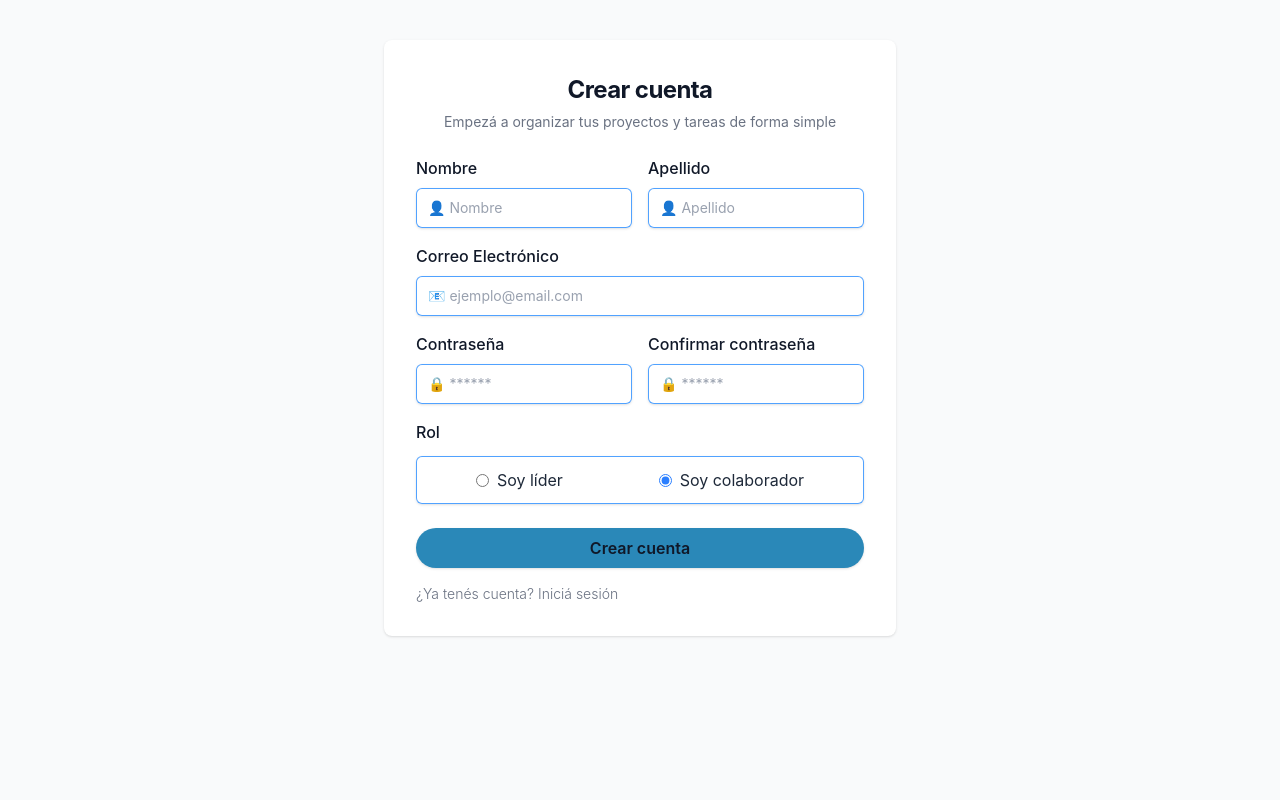
Test case: Register › muestra error cuando la contraseña no cumple el formato mínimo
The width and height of the screenshot is (1280, 800).
In the field with placeholder "👤 Nombre": (524, 208) 416,188 -> 632,228, type "Juan"
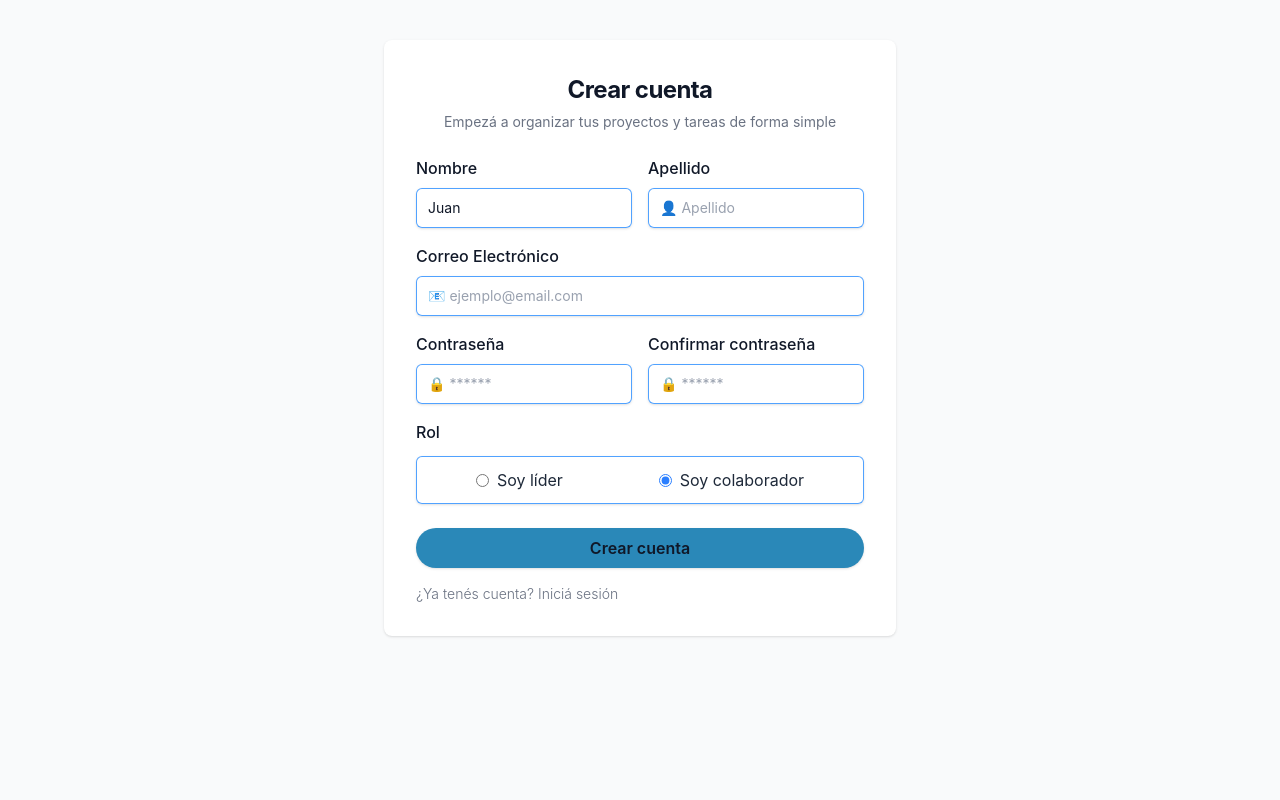
In the field with placeholder "👤 Apellido": (756, 208) 648,188 -> 864,228, type "Perez"
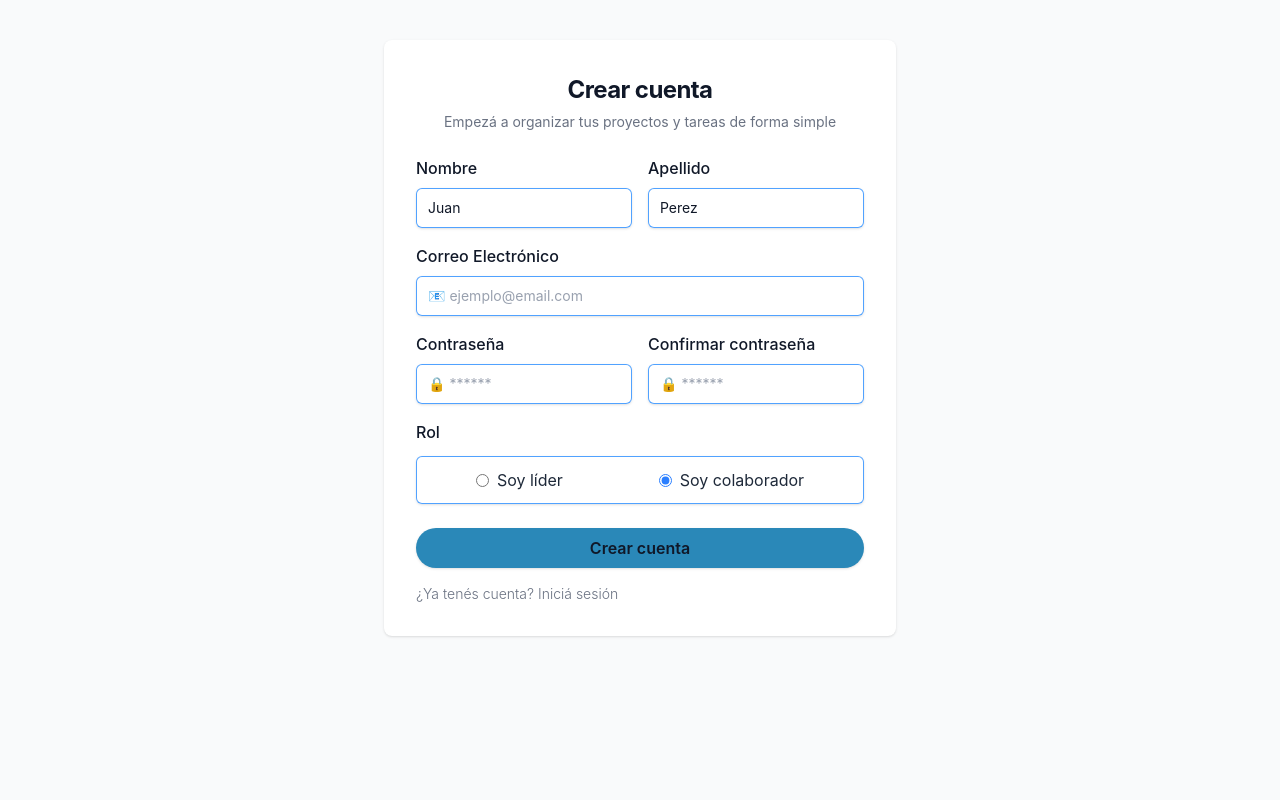
In the field with placeholder "📧 ejemplo@email.com": (640, 296) 416,276 -> 864,316, type "juan@test.com"
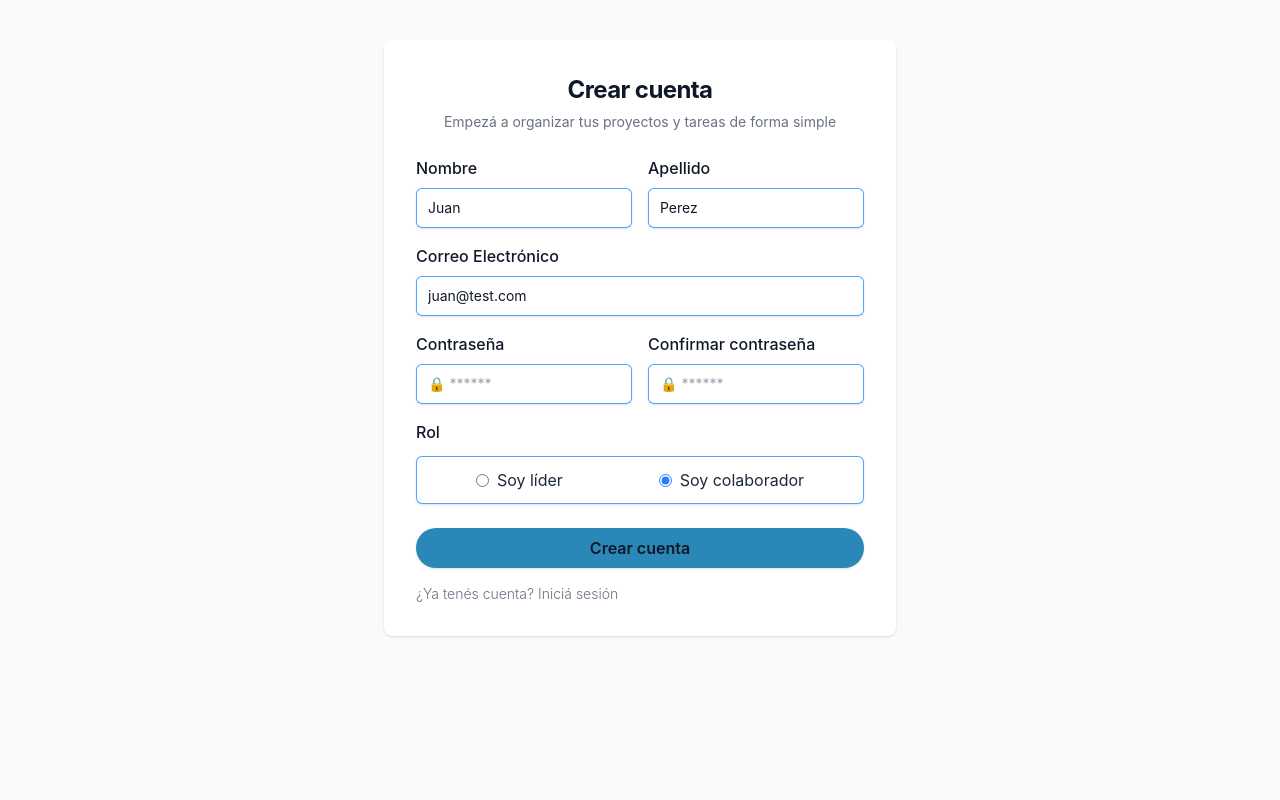
In the 1st password field with placeholder "🔒 ******": (524, 384) 416,364 -> 632,404, type "123456"
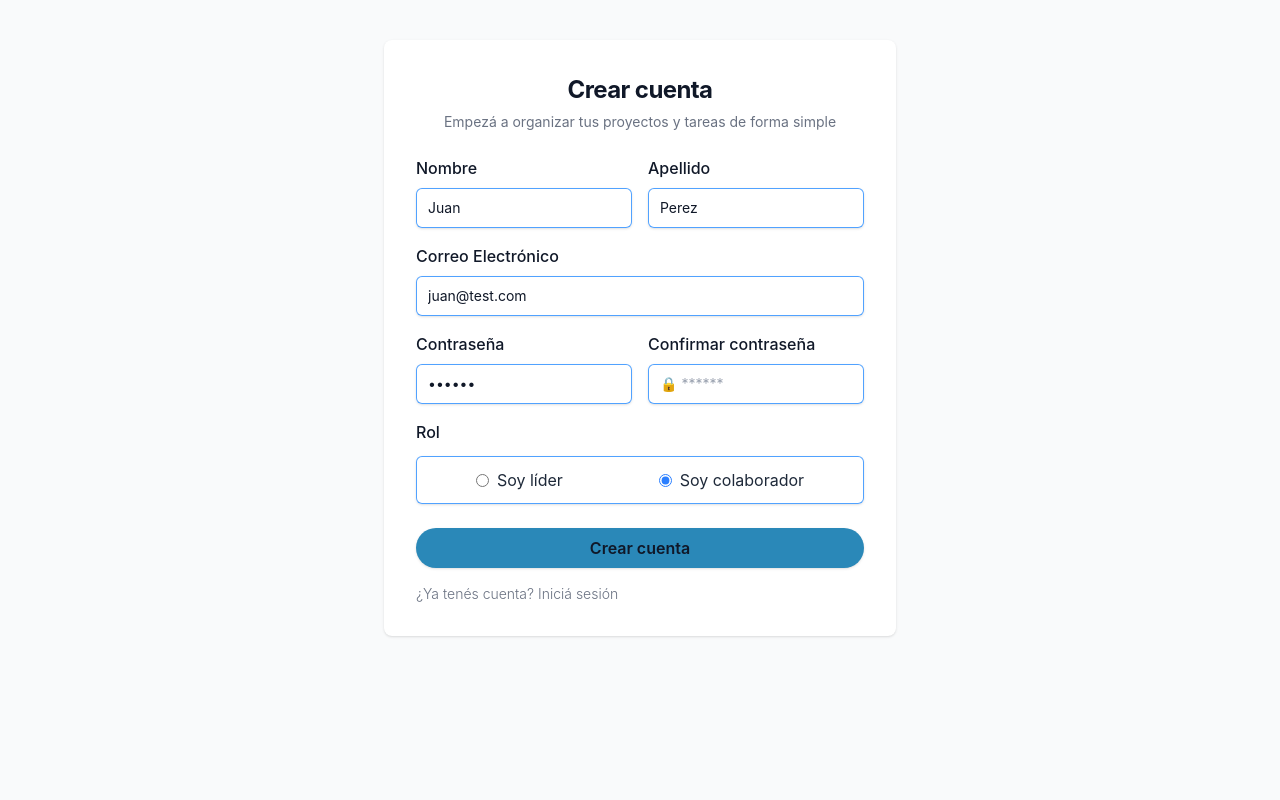
In the password field with placeholder "🔒 ******": (756, 384) 648,364 -> 864,404, type "123456"
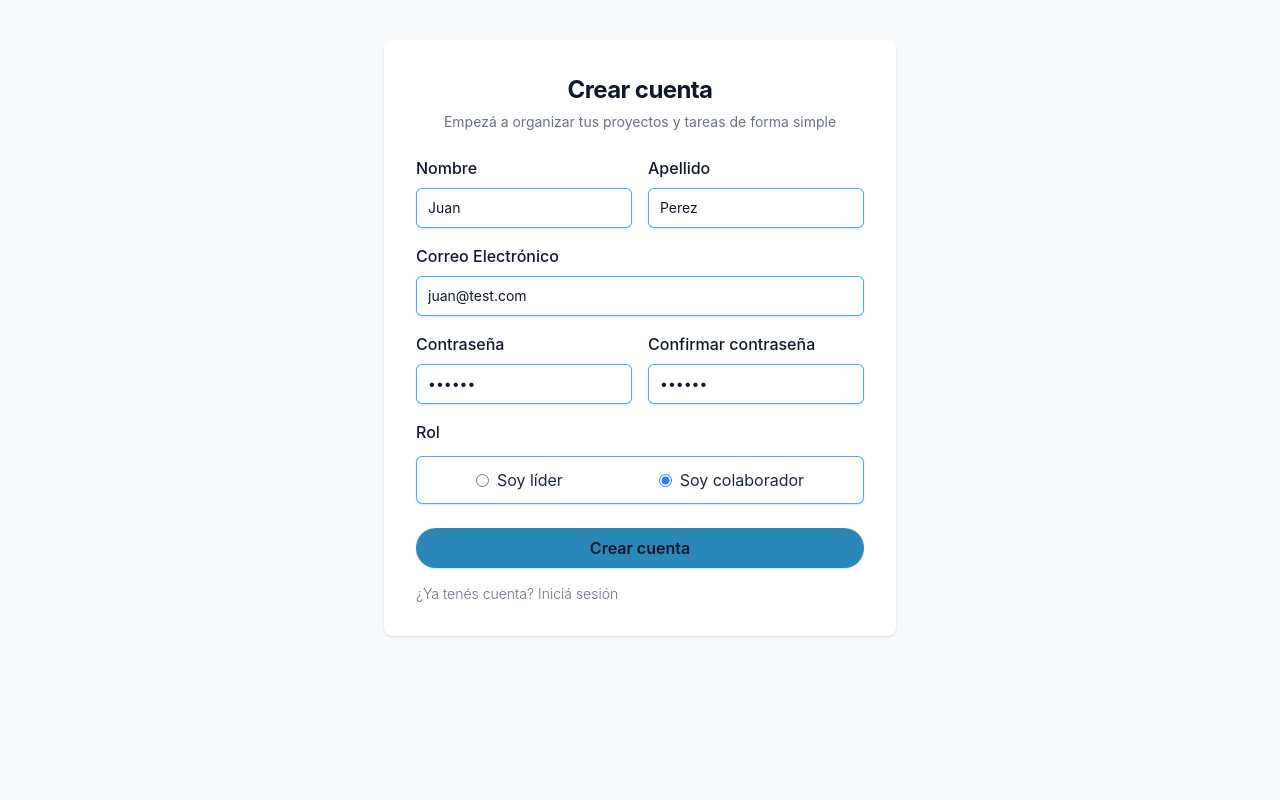
Click the button "Crear cuenta": click(640, 548) 416,528 -> 864,568
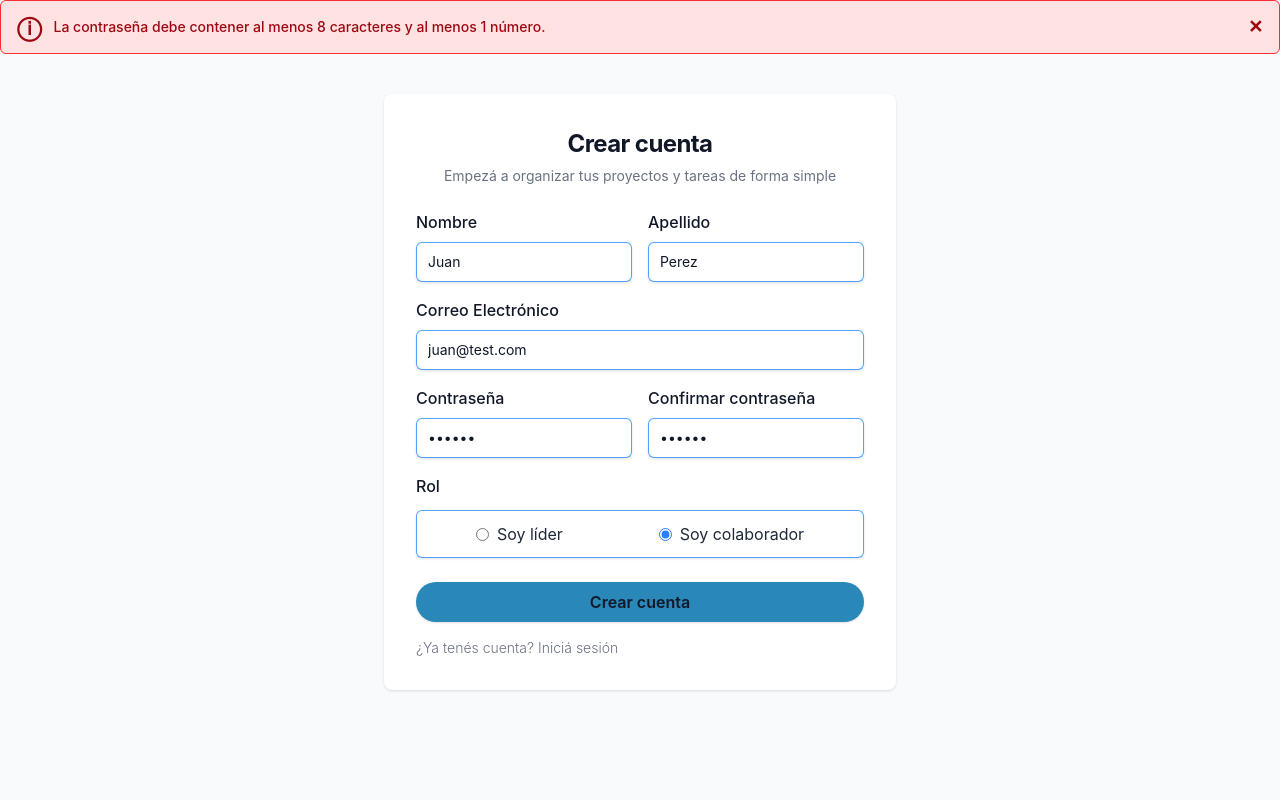
Now the text "La contraseña debe contener al menos 8 caracteres y al menos 1 número." is shown, box 54,17 -> 545,37
